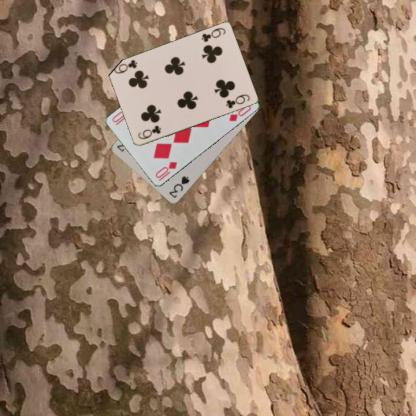10d: (152, 160, 178, 182)
3s: (166, 173, 191, 200)
6c: (199, 26, 226, 43), (136, 123, 162, 140)
